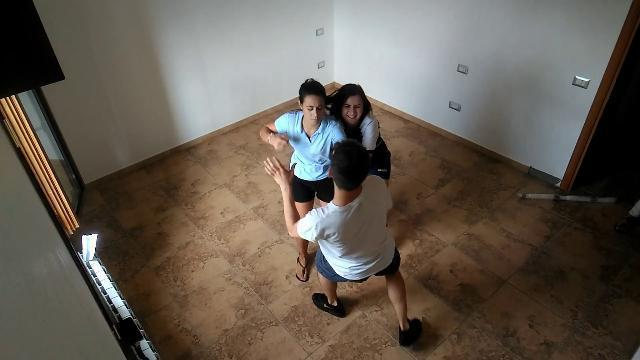violence: (258, 78, 430, 346)
